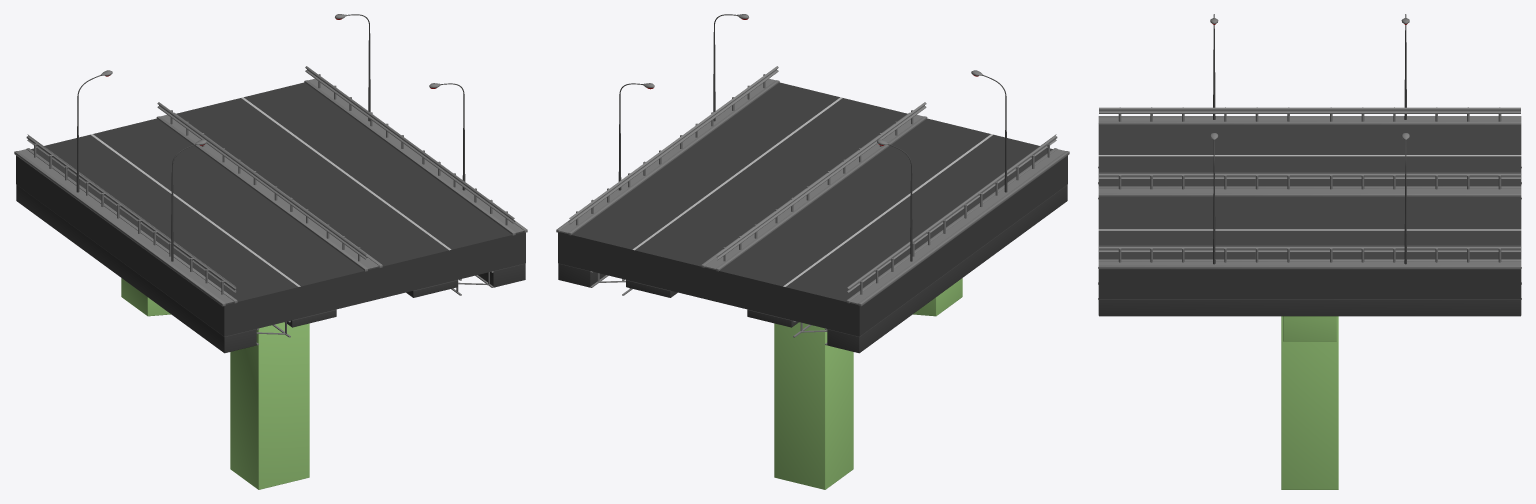
Rendered from SM_highway_platform_straight.fbx.
The picture shows the model from 3 angles, left to right: view 1: azimuth 30°, elevation 25°; view 2: azimuth 150°, elevation 25°; view 3: azimuth 270°, elevation 25°; orthographic projection.
Parts seen in each view (by area): view 1: Object1284858; view 2: Object1284858; view 3: Object1284858.
Part boxes in pixels (box(x1,y1,x2,y2)): Object1284858: box(14, 14, 527, 489); Object1284858: box(556, 14, 1069, 489); Object1284858: box(1098, 14, 1521, 489).
Bounding box in the file's own units: 903 × 1118 × 1071.
